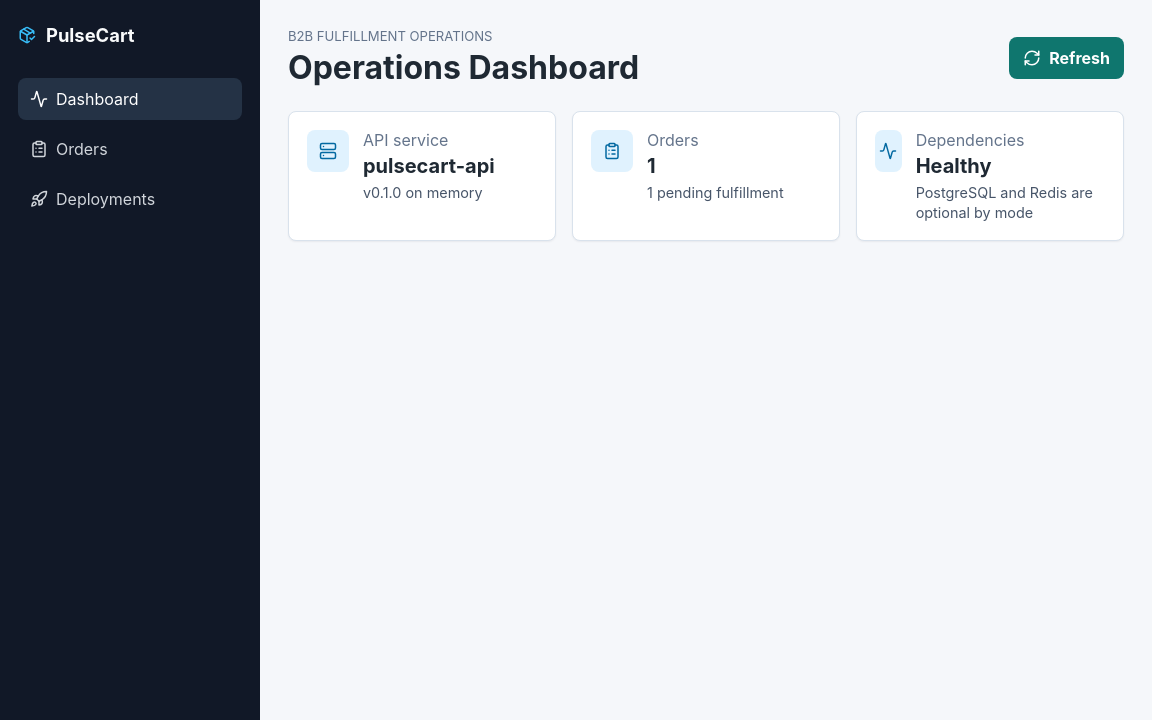
PulseCart web app › renders the deployments page
Expected: the heading "pulsecart-api" is shown, [363,154,495,178]
Click the button "Deployments" at (130, 199), box [18,178,242,220]
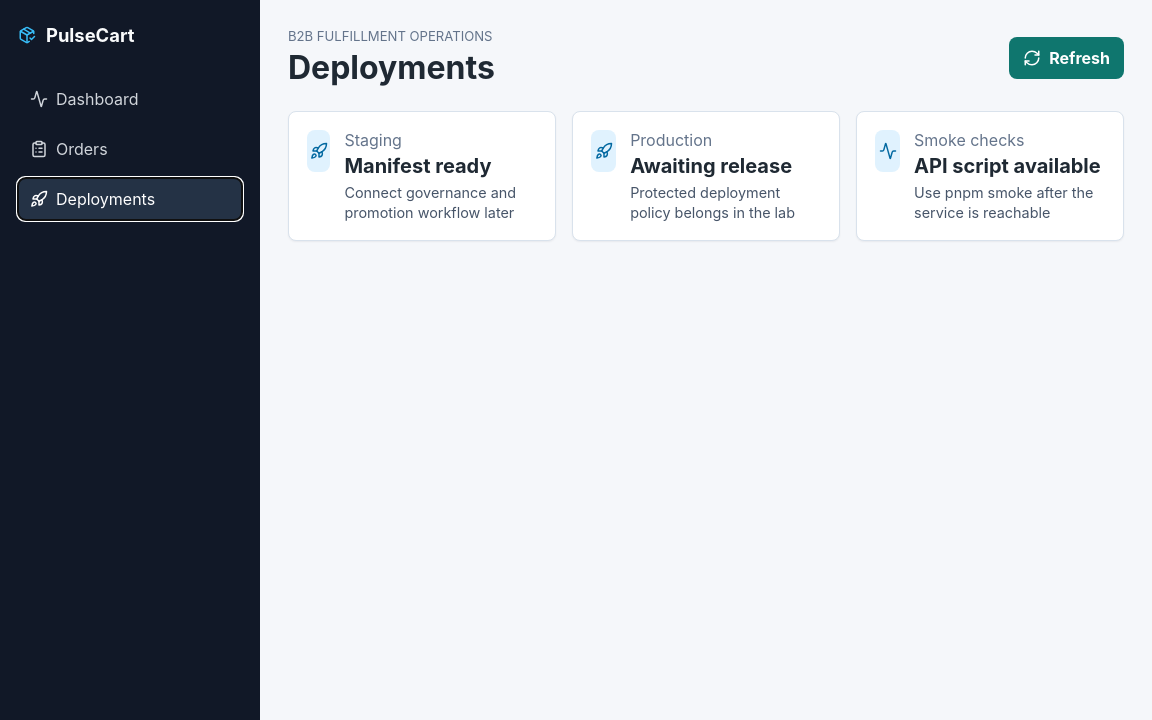
Expected: the heading "Deployments" is shown, [288,48,495,87]
Expected: the heading "Manifest ready" is shown, [344,154,492,178]
Expected: the heading "Awaiting release" is shown, [630,154,792,178]
